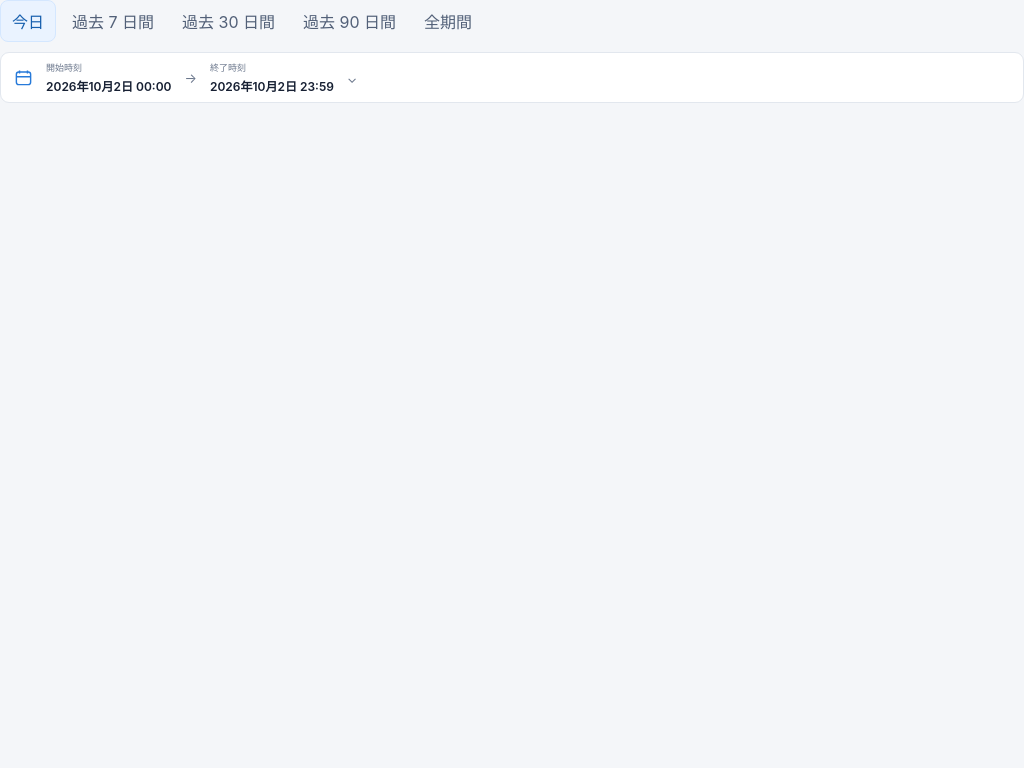
Test: date controls › localizes reset highlights and future-date accessibility labels
Click the button with aria-label "日付範囲を選択、": (64, 68) top-left (0, 52), bottom-right (1023, 103)
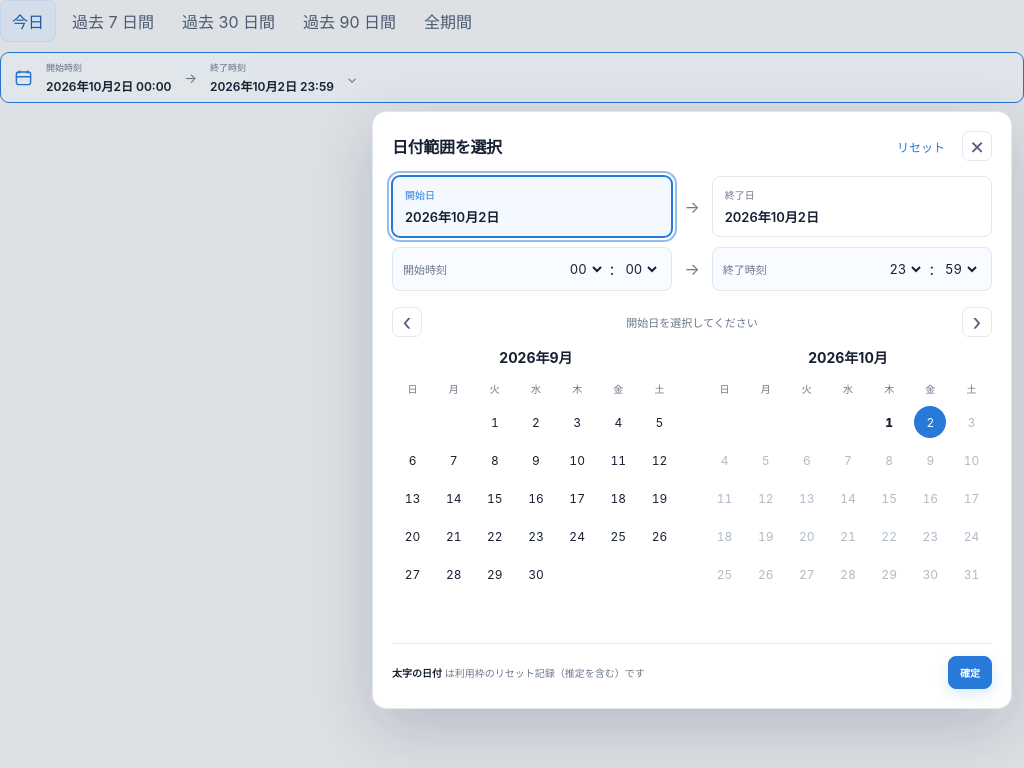
Now the heading with id "calendarMonth1" reads "2026年10月", box top-left (808, 349), bottom-right (888, 366)
